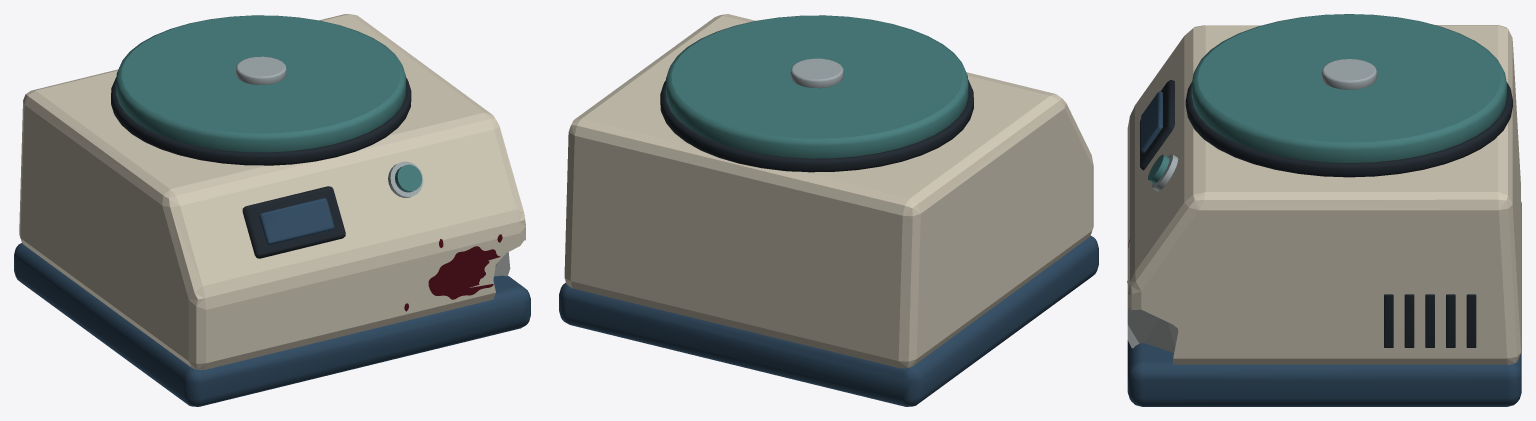
Rendered from lab_centrifuge.glb.
3 renders of one model, left to right at view 1: azimuth 30°, elevation 25°; view 2: azimuth 150°, elevation 25°; view 3: azimuth 270°, elevation 25°, orthographic. The views are drawn at different scales.
Visible parts, largest first — view 1: Static_Shell_Mesh; view 2: Static_Shell_Mesh; view 3: Static_Shell_Mesh.
Part boxes in pixels (<box>): Static_Shell_Mesh: <box>14,14,530,406</box>; Static_Shell_Mesh: <box>559,14,1098,406</box>; Static_Shell_Mesh: <box>1127,14,1521,406</box>.
Bounding box in the file's own units: 0.44 × 0.2905 × 0.4005.
